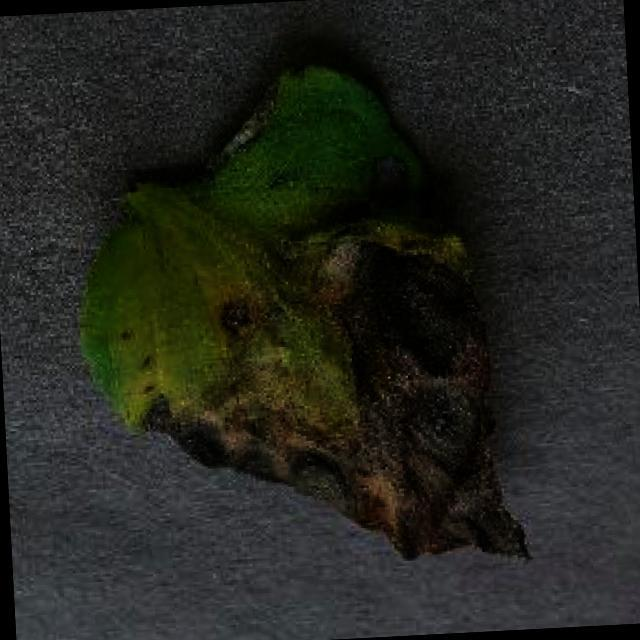Tomato Early blight leaf: (66, 48, 530, 586)
